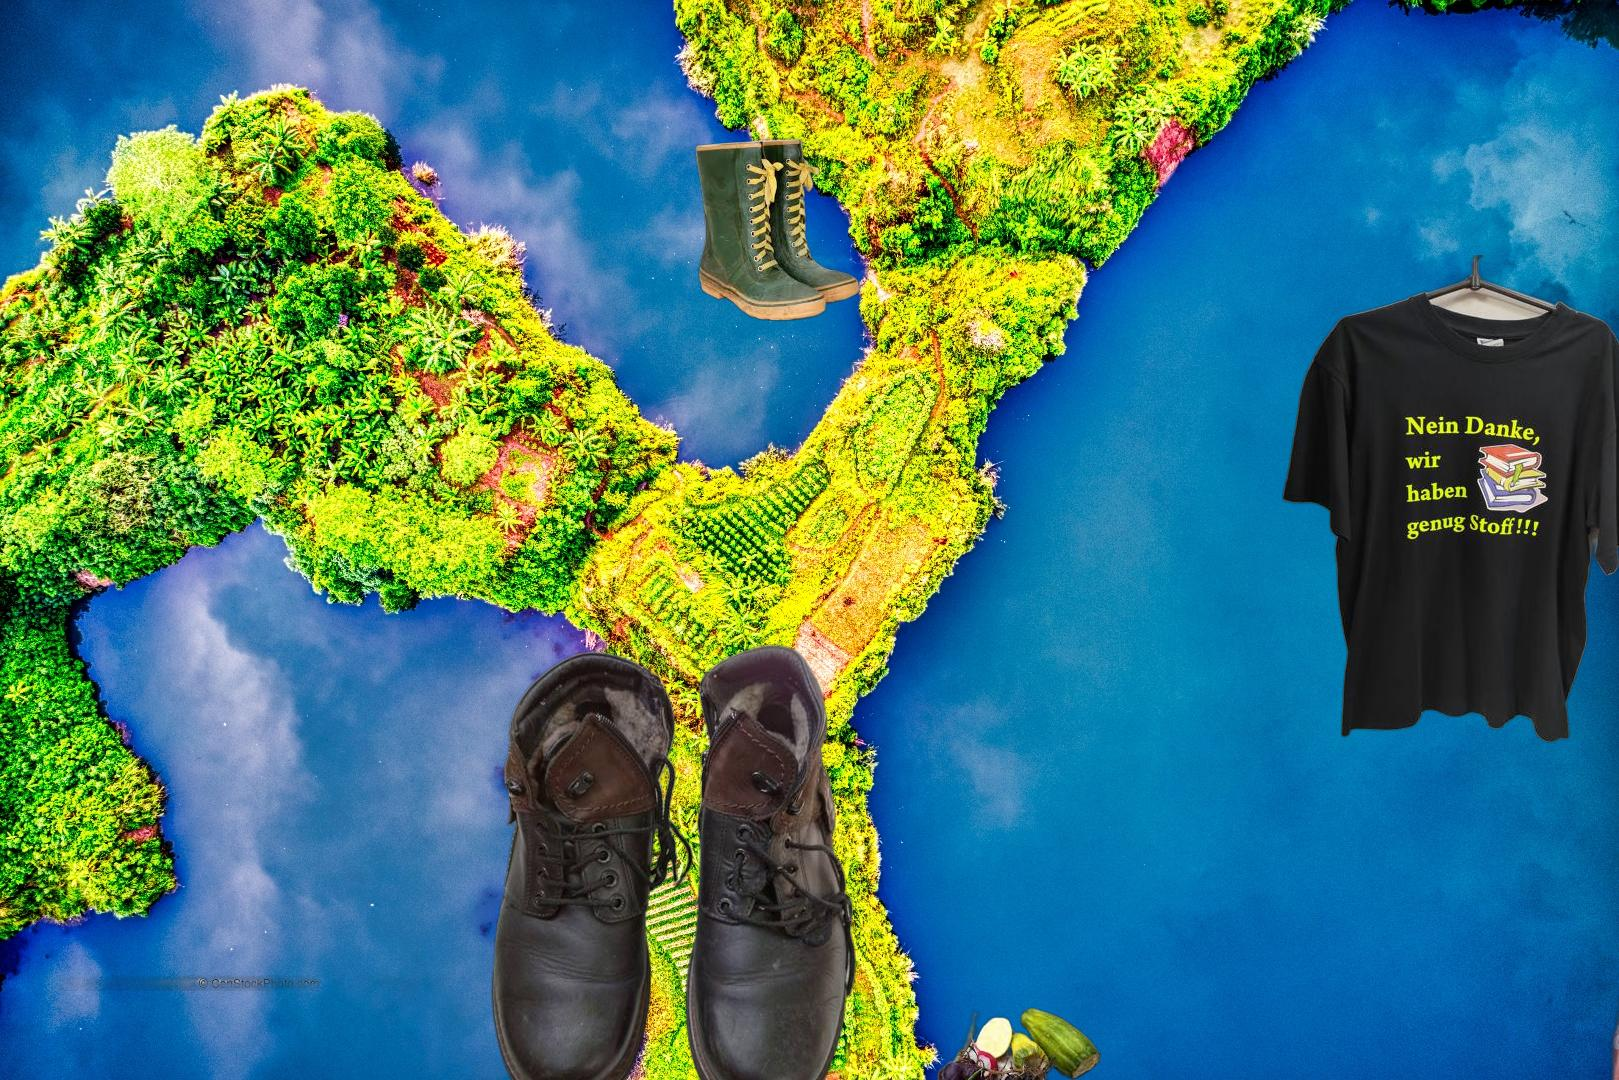biological: (916, 1002, 1110, 1080)
clothes: (1280, 256, 1619, 746)
shoes: (488, 640, 860, 1080), (693, 134, 863, 324)
trashbox-cardboard: (1567, 575, 1619, 1080), (59, 969, 459, 991)
